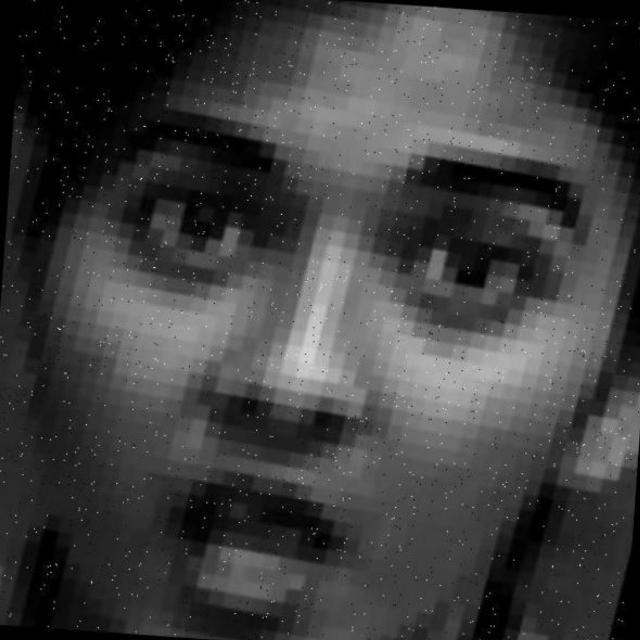Surprised: (20, 64, 639, 640)
